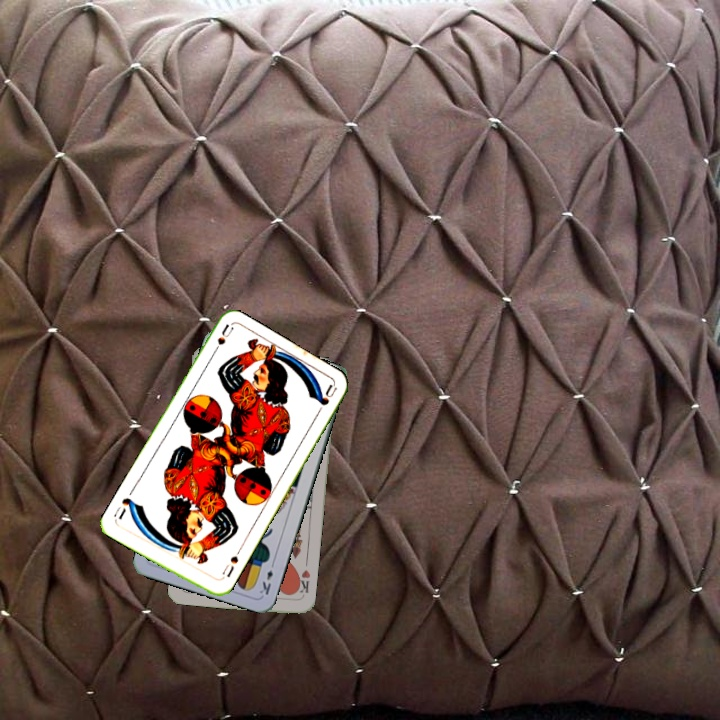EK: (255, 557, 277, 597)
HK: (292, 566, 313, 600)
SU: (207, 321, 236, 360), (214, 552, 241, 583)
